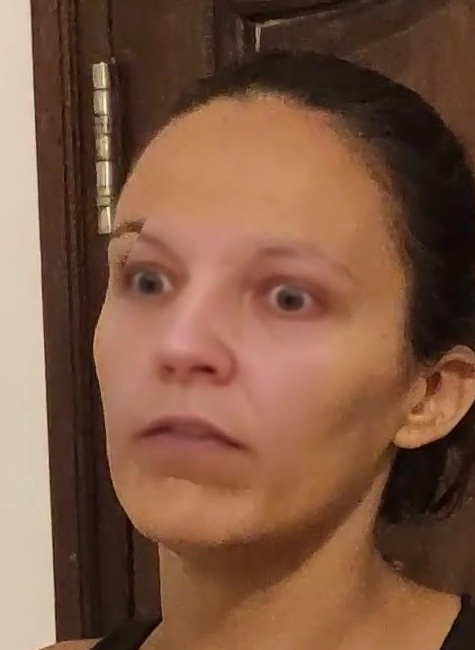eb_f: (100, 209, 368, 334)
